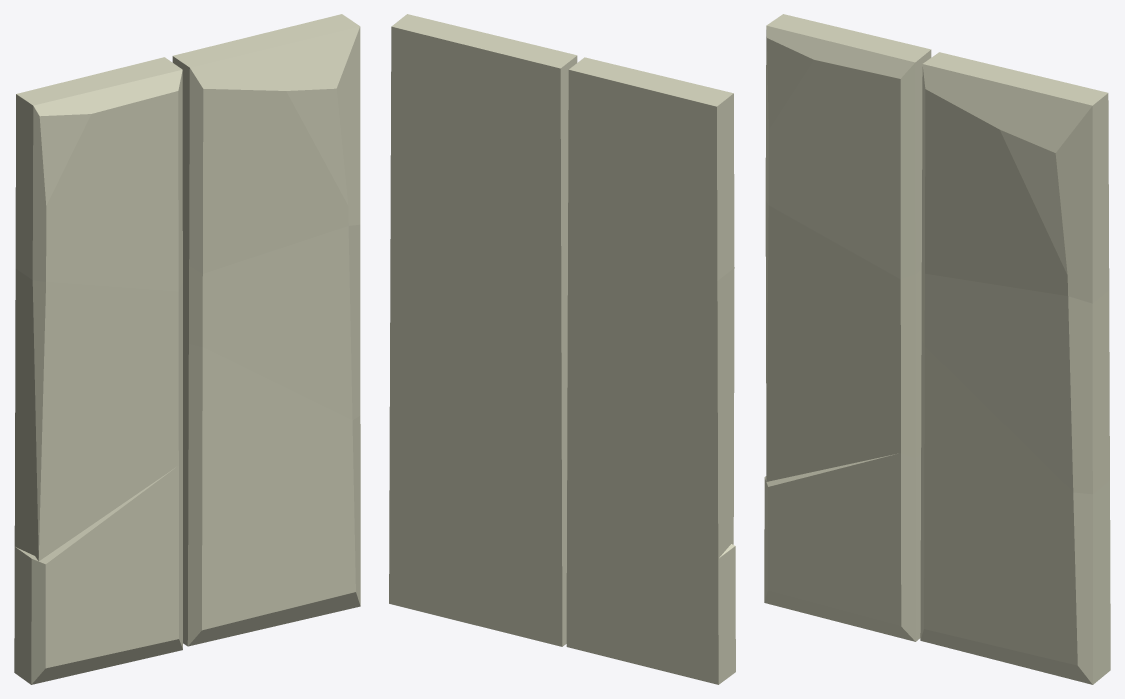
Rendered from StoneDoor_shatter.fbx.
3 renders of one model, left to right at view 1: azimuth 30°, elevation 25°; view 2: azimuth 150°, elevation 25°; view 3: azimuth 330°, elevation 25°, orthographic.
Parts seen in each view (by area): view 1: StoneWall.003, StoneWall.009, StoneWall.007, StoneWall.008, StoneWall.005, StoneWall.006; view 2: StoneWall.003, StoneWall.009, StoneWall.007, StoneWall.008, StoneWall.005, StoneWall.006; view 3: StoneWall.003, StoneWall.007, StoneWall.009, StoneWall.008, StoneWall.006, StoneWall.005.
Part boxes in pixels (x1,y1,x2,y2): StoneWall.003: [183, 340, 360, 646]; StoneWall.009: [14, 269, 182, 561]; StoneWall.007: [172, 14, 360, 273]; StoneWall.008: [15, 57, 182, 291]; StoneWall.005: [14, 465, 182, 684]; StoneWall.006: [183, 224, 360, 420]; StoneWall.003: [389, 339, 567, 646]; StoneWall.009: [567, 268, 734, 558]; StoneWall.007: [390, 14, 577, 265]; StoneWall.008: [568, 57, 734, 281]; StoneWall.005: [566, 464, 735, 684]; StoneWall.006: [389, 224, 567, 413]; StoneWall.003: [920, 340, 1110, 684]; StoneWall.007: [922, 52, 1109, 303]; StoneWall.009: [765, 200, 921, 481]; StoneWall.008: [765, 14, 931, 279]; StoneWall.006: [921, 262, 1109, 494]; StoneWall.005: [764, 453, 920, 641].
Bounding box in the file's own units: 149 × 251 × 20.86.
